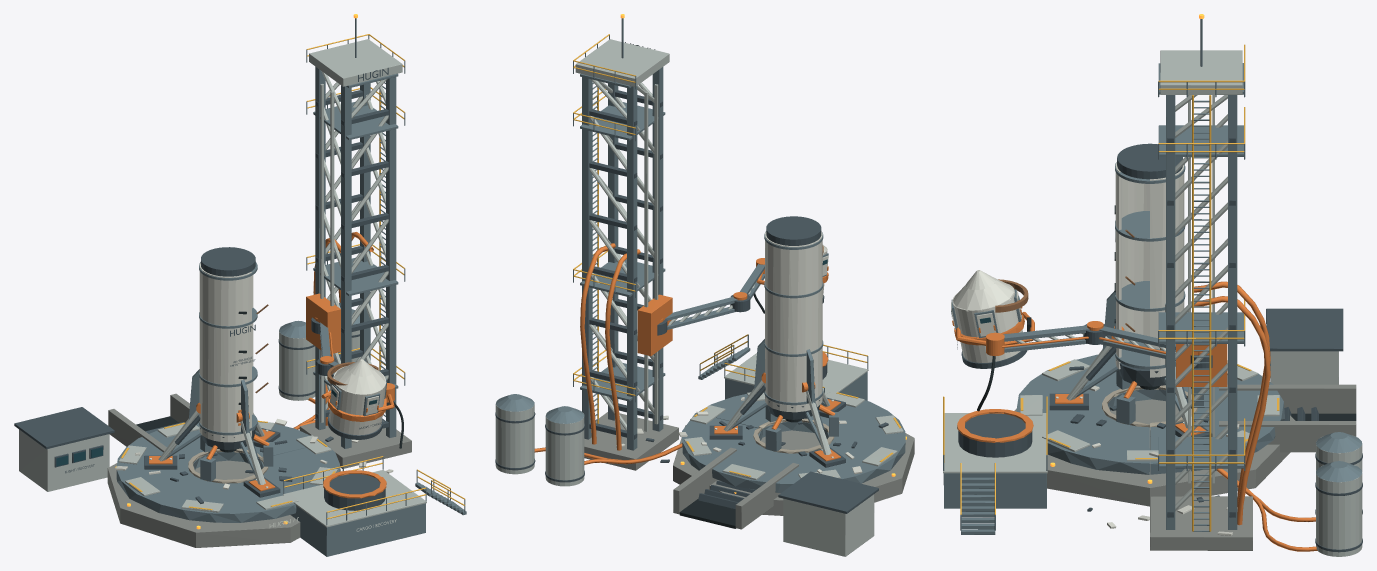
File: hugin_launchpad_d2_game.glb
The picture shows the model from 3 angles, left to right: view 1: azimuth 30°, elevation 25°; view 2: azimuth 150°, elevation 25°; view 3: azimuth 270°, elevation 25°; orthographic projection. The views are drawn at different scales.
Parts seen in each view (by area): view 1: Handrail post.118, Raised launch deck.002, Cargo elevator rail.004, Launch control shelter.002, Ruptured booster pressure hull, Octagonal launch foundation.002, Cargo receiving pedestal.002, Access stair.020, Tower cross beam.028, Cargo nose.002, Deck sector armor.016, Tower raft.002 (+7 smaller); view 2: Handrail post.118, Launch control shelter.002, Raised launch deck.002, Ruptured booster pressure hull, Cargo elevator rail.004, Cargo receiving pedestal.002, Tower cross beam.028, Octagonal launch foundation.002, Flame trench wall.004, Access stair.020, Tower raft.002, Deck sector armor.016 (+10 smaller); view 3: Handrail post.118, Raised launch deck.002, Launch control shelter.002, Cargo elevator rail.004, Ruptured booster pressure hull, Cargo receiving pedestal.002, Octagonal launch foundation.002, Access stair.020, Flame trench wall.004, Tower raft.002, Platform handrail.056, Cargo nose.002 (+12 smaller).
Part boxes in pixels (x1,y1,x2,y2): Handrail post.118: (306,18,405,448); Raised launch deck.002: (116,423,339,522); Cargo elevator rail.004: (309,39,402,422); Launch control shelter.002: (19,325,426,527); Ruptured booster pressure hull: (199,263,253,442); Octagonal launch foundation.002: (107,460,340,547); Cargo receiving pedestal.002: (14,334,385,510); Access stair.020: (279,309,466,556); Tower cross beam.028: (315,67,388,428); Cargo nose.002: (329,359,386,435); Deck sector armor.016: (118,422,337,512); Tower raft.002: (299,420,411,468); Handrail post.118: (573,18,665,450); Launch control shelter.002: (495,353,874,556); Raised launch deck.002: (682,394,905,492); Ruptured booster pressure hull: (765,231,822,412); Cargo elevator rail.004: (575,39,669,431); Cargo receiving pedestal.002: (495,363,888,513); Tower cross beam.028: (589,42,662,439); Octagonal launch foundation.002: (673,425,914,515); Flame trench wall.004: (673,447,798,529); Access stair.020: (495,334,868,423); Tower raft.002: (584,412,678,470); Deck sector armor.016: (684,391,903,479); Handrail post.118: (1158,19,1245,531); Raised launch deck.002: (1016,354,1284,474); Launch control shelter.002: (943,351,1362,556); Cargo elevator rail.004: (1160,50,1242,510); Ruptured booster pressure hull: (1115,162,1184,377); Cargo receiving pedestal.002: (958,308,1362,552); Octagonal launch foundation.002: (1014,399,1295,506); Access stair.020: (943,432,1362,534); Flame trench wall.004: (1219,384,1356,452); Tower raft.002: (1150,496,1252,550); Platform handrail.056: (1158,44,1245,531); Cargo nose.002: (952,270,1022,362).
Size of the model in its own units: 28.14 by 33.1 by 24.44.
